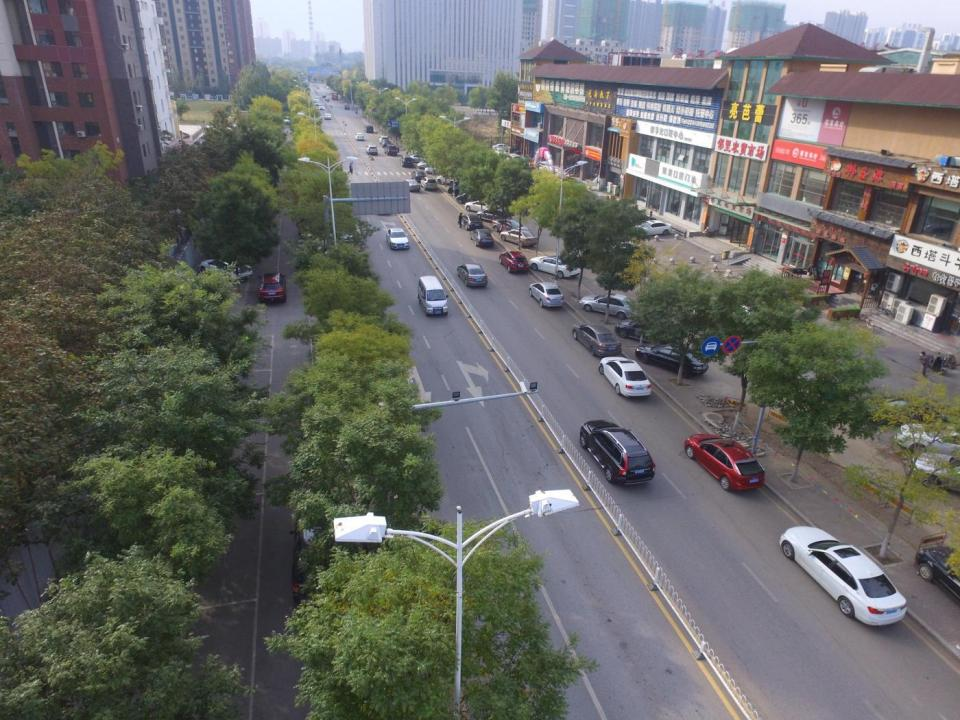bus: (331, 91, 338, 100)
car: (780, 524, 908, 628), (684, 432, 764, 494), (580, 421, 652, 485), (859, 393, 959, 433), (917, 545, 960, 617), (637, 342, 710, 379), (909, 444, 960, 494), (598, 358, 652, 400), (896, 422, 960, 454), (616, 318, 681, 348), (573, 320, 621, 357), (526, 252, 584, 281), (579, 293, 635, 319), (199, 255, 251, 281), (527, 283, 564, 309), (456, 261, 489, 289), (499, 249, 530, 276), (259, 274, 286, 305), (502, 229, 538, 248), (492, 218, 526, 238), (634, 219, 668, 238), (386, 228, 410, 252), (470, 228, 496, 250), (618, 213, 655, 228), (447, 182, 478, 199), (478, 207, 507, 224), (461, 213, 483, 233), (458, 191, 489, 204), (465, 199, 496, 212), (436, 172, 462, 187), (410, 153, 435, 164), (421, 176, 438, 190), (404, 179, 419, 193), (426, 164, 443, 176), (509, 153, 523, 166), (410, 170, 425, 181), (384, 145, 398, 156), (401, 154, 412, 168), (492, 142, 511, 150), (417, 160, 432, 170), (365, 145, 378, 155), (380, 140, 391, 149), (364, 125, 375, 133), (355, 133, 364, 141), (379, 136, 388, 144), (324, 113, 331, 120), (344, 103, 350, 110), (322, 93, 327, 100), (319, 104, 324, 110), (314, 101, 320, 106), (314, 97, 318, 103), (324, 98, 330, 102)
van: (418, 276, 448, 318)
